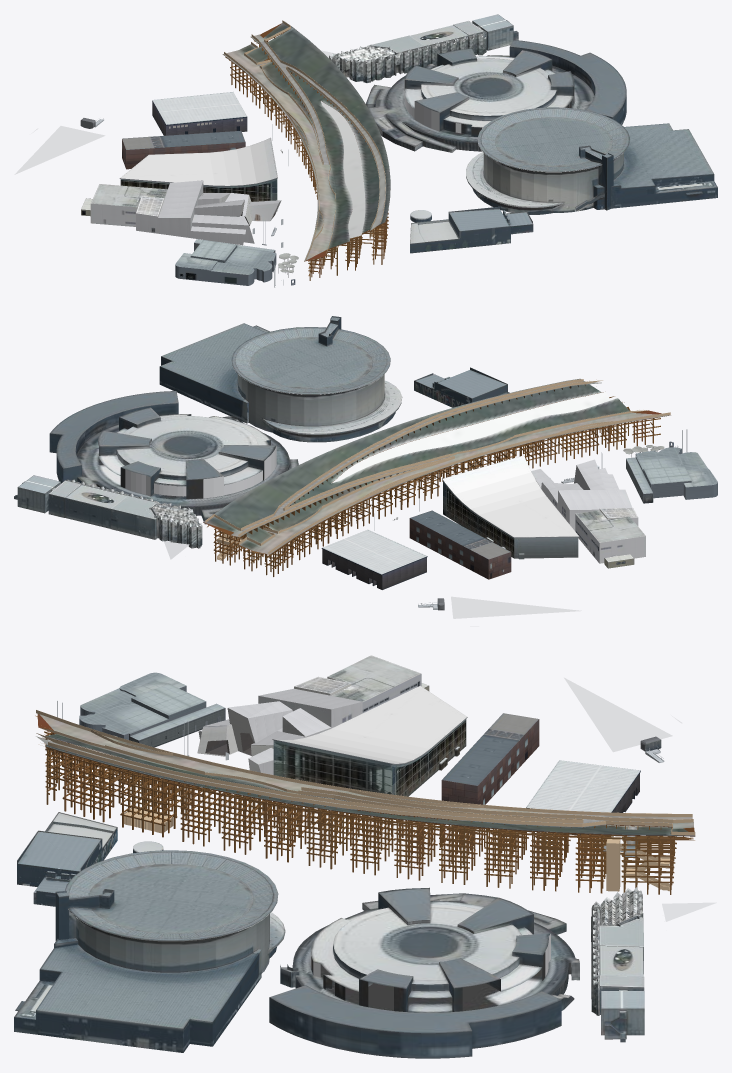
3 renders of one model, top to bottom at view 1: azimuth 30°, elevation 25°; view 2: azimuth 150°, elevation 25°; view 3: azimuth 270°, elevation 25°, orthographic. The views are drawn at different scales.
Visible parts, largest first — view 1: Buildings_建物パビリオン, GrandRoofRing_大屋根リング, Facilities_都市設備; view 2: Buildings_建物パビリオン, GrandRoofRing_大屋根リング, Facilities_都市設備; view 3: Buildings_建物パビリオン, GrandRoofRing_大屋根リング.
Boxes of the visible parts, x1,y1,x2,y2 form: Buildings_建物パビリオン: (14, 14, 717, 285); GrandRoofRing_大屋根リング: (222, 20, 390, 280); Facilities_都市設備: (80, 118, 298, 287); Buildings_建物パビリオン: (14, 316, 717, 626); GrandRoofRing_大屋根リング: (203, 378, 670, 576); Facilities_都市設備: (374, 429, 687, 610); Buildings_建物パビリオン: (14, 655, 716, 1058); GrandRoofRing_大屋根リング: (35, 710, 695, 894).
Bounding box in the file's own units: 277 × 25.8 × 220.
Materials: 30 (27 with a texture image).
